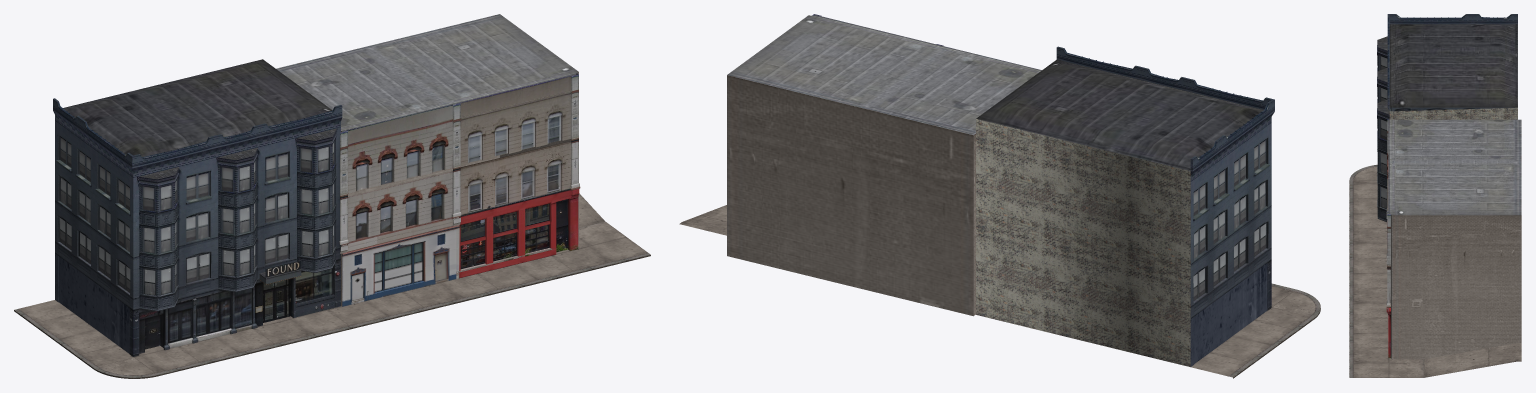
File: chicago_buildings.glb
3 renders of one model, left to right at view 1: azimuth 30°, elevation 25°; view 2: azimuth 150°, elevation 25°; view 3: azimuth 270°, elevation 25°, orthographic. The views are drawn at different scales.
Size of the model in its own units: 198 by 71.86 by 67.26.
Materials: 5 (5 with a texture image).
